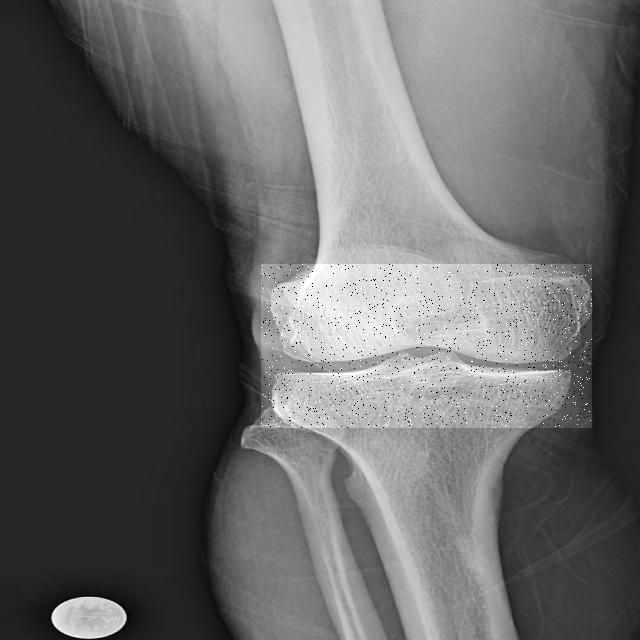osteo: (261, 264, 592, 428)
